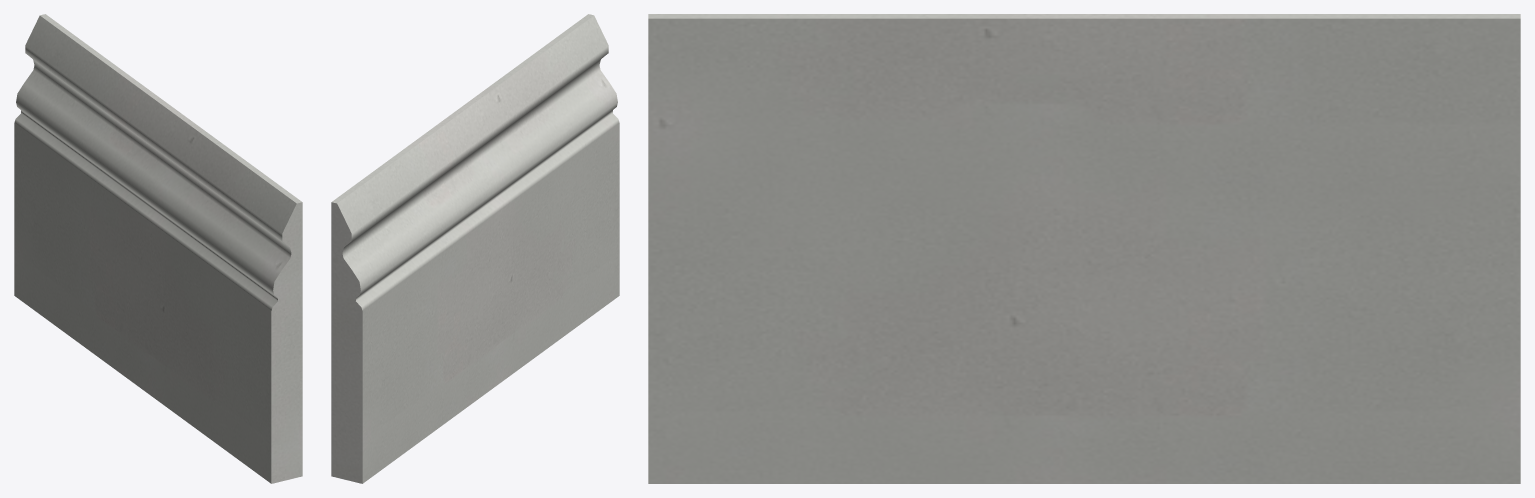
File: Anchor-line2.fbx
3 renders of one model, left to right at view 1: azimuth 30°, elevation 25°; view 2: azimuth 150°, elevation 25°; view 3: azimuth 270°, elevation 25°, orthographic. The views are drawn at different scales.
Parts seen in each view (by area): view 1: polySurface937; view 2: polySurface937; view 3: polySurface937.
Boxes of the visible parts, <box> form: polySurface937: <box>14,14,302,483</box>; polySurface937: <box>331,14,619,483</box>; polySurface937: <box>648,14,1520,483</box>.
Bounding box in the file's own units: 0.0246 × 0.2069 × 0.3515.
